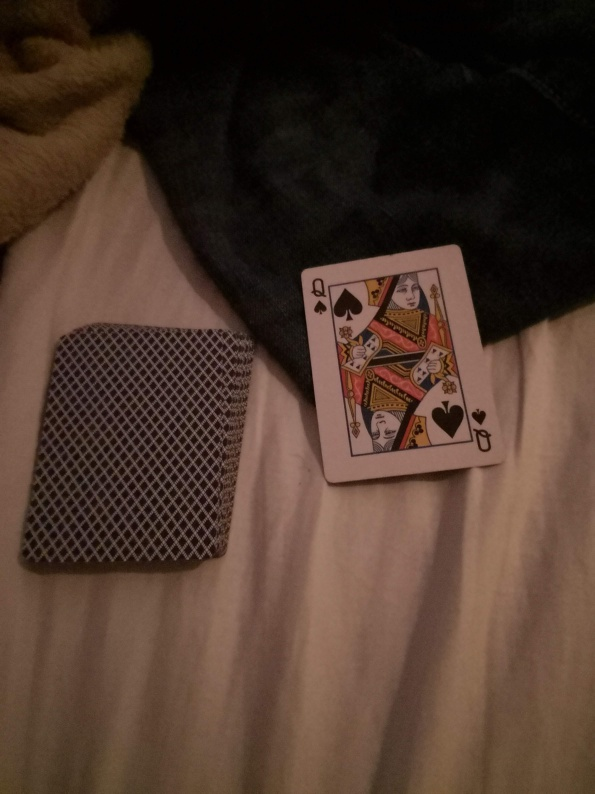queen: (300, 242, 505, 486)
